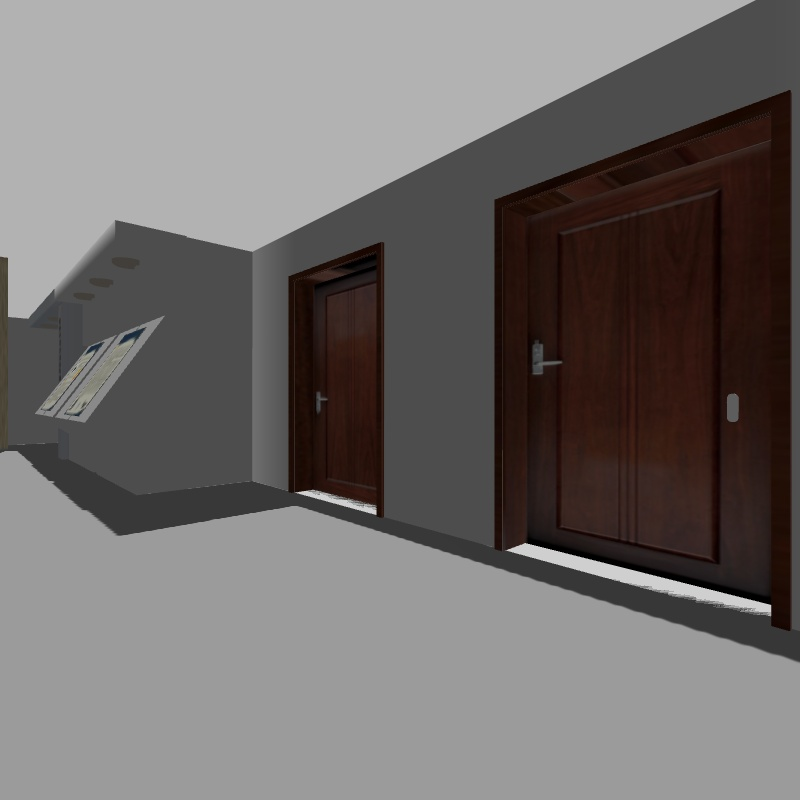handle: (519, 340, 563, 379), (310, 384, 330, 419)
